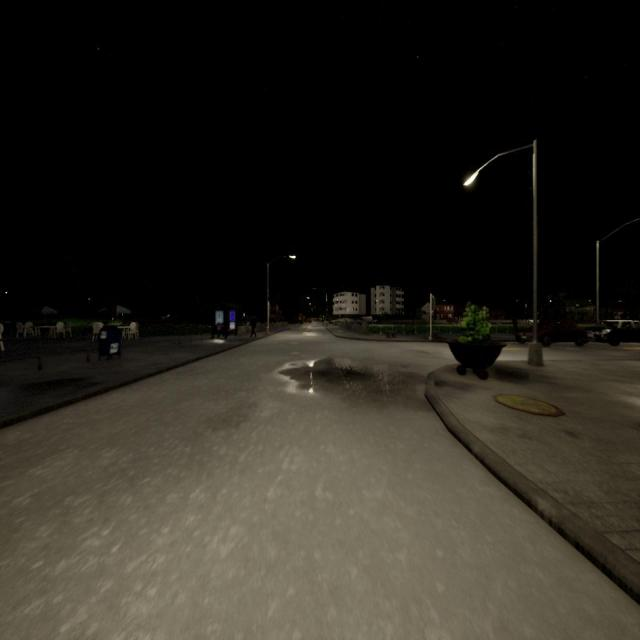Pedestrian: (250, 313, 256, 337)
Vehicle: (515, 320, 588, 347), (587, 319, 640, 346), (357, 316, 372, 325)
traffic_light: (432, 298, 436, 310)
